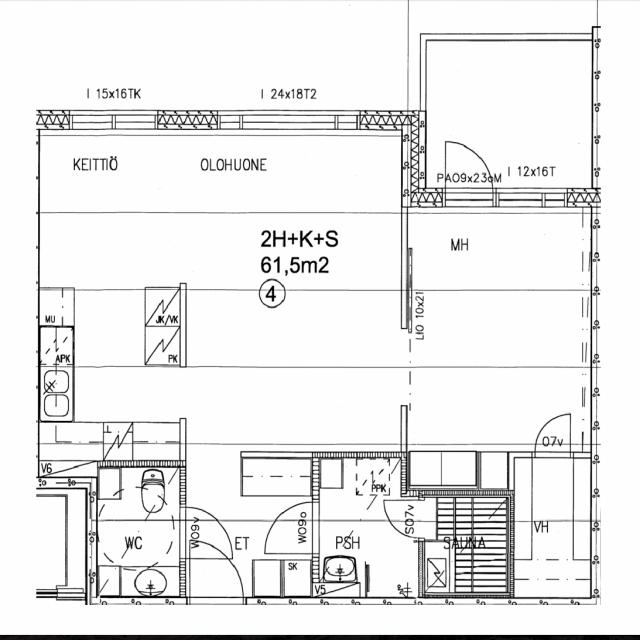door: (190, 538, 243, 609), (446, 137, 492, 207), (264, 502, 320, 553), (180, 507, 232, 558), (536, 413, 570, 458), (383, 500, 424, 537)
